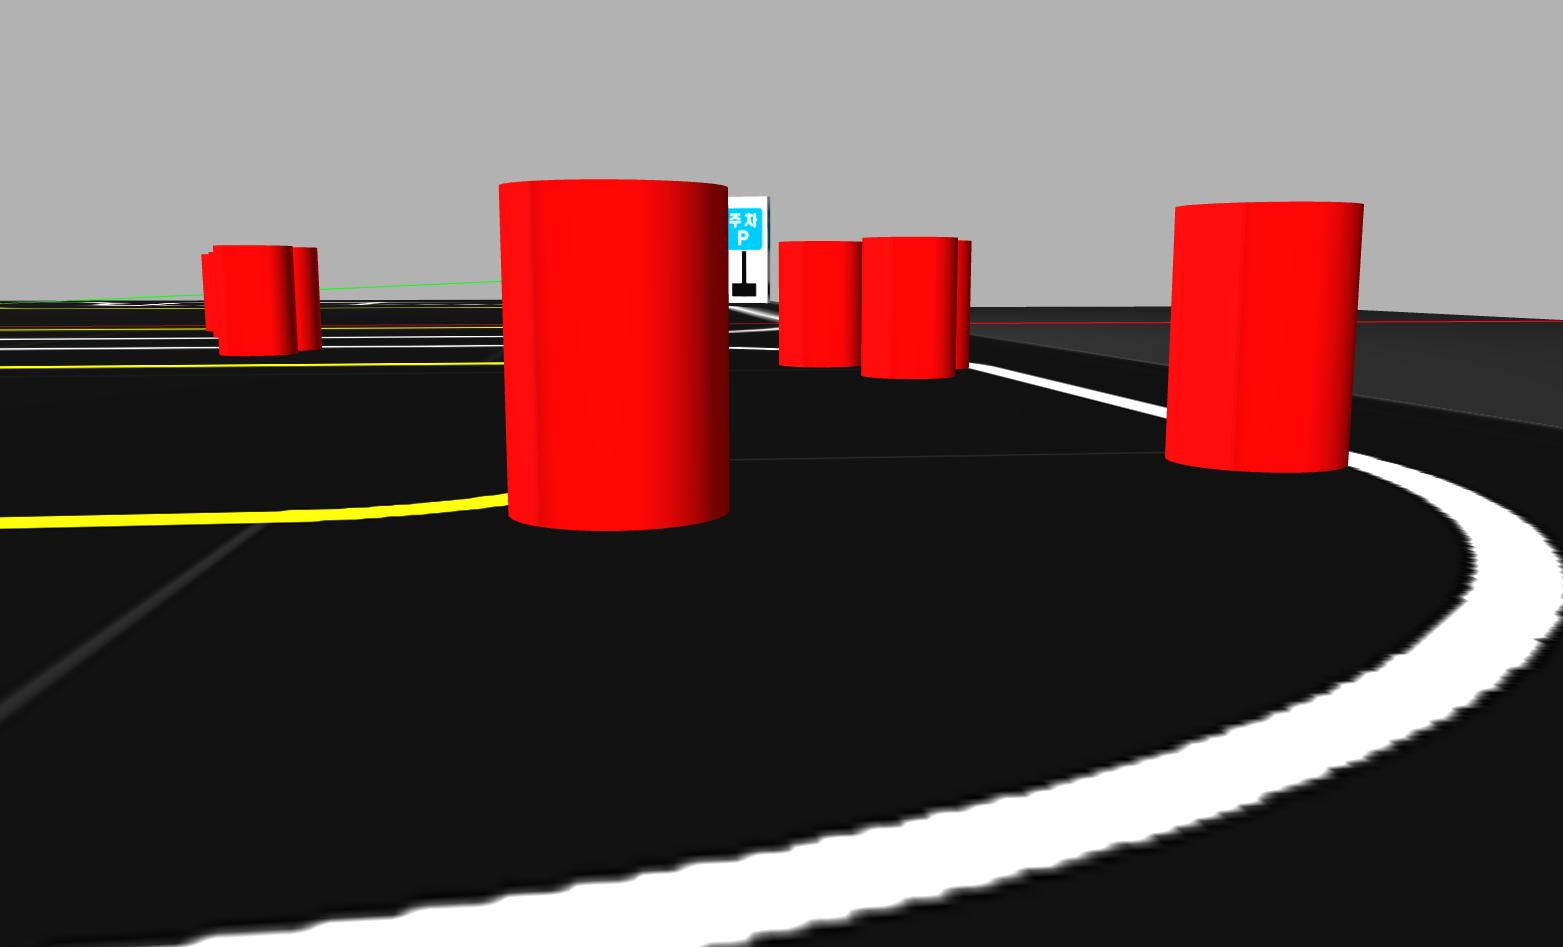obstacle: (493, 175, 737, 535), (1158, 200, 1367, 477), (859, 229, 960, 385), (776, 238, 866, 367), (207, 243, 300, 362), (286, 246, 329, 358), (951, 238, 974, 375), (201, 254, 223, 334)
